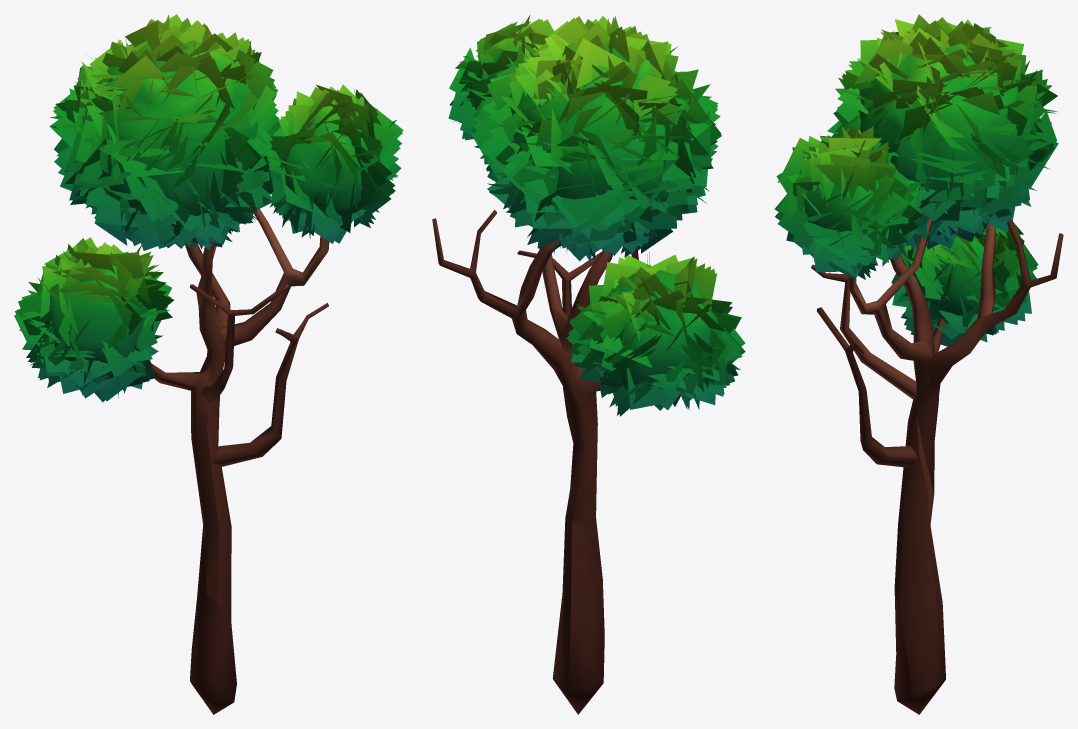
Rendered from Forest_Tree_4E.fbx.
3 views of the same model, side by side, from view 1: azimuth 30°, elevation 25°; view 2: azimuth 150°, elevation 25°; view 3: azimuth 270°, elevation 25° (orthographic). The views are drawn at different scales.
Visible parts, largest first — view 1: Forest_Tree_4E; view 2: Forest_Tree_4E; view 3: Forest_Tree_4E.
Part boxes in pixels (bbox=[...]): Forest_Tree_4E: bbox=[14, 14, 403, 714]; Forest_Tree_4E: bbox=[432, 15, 745, 714]; Forest_Tree_4E: bbox=[774, 14, 1063, 714].
Size of the model in its own units: 466 by 948 by 367.
